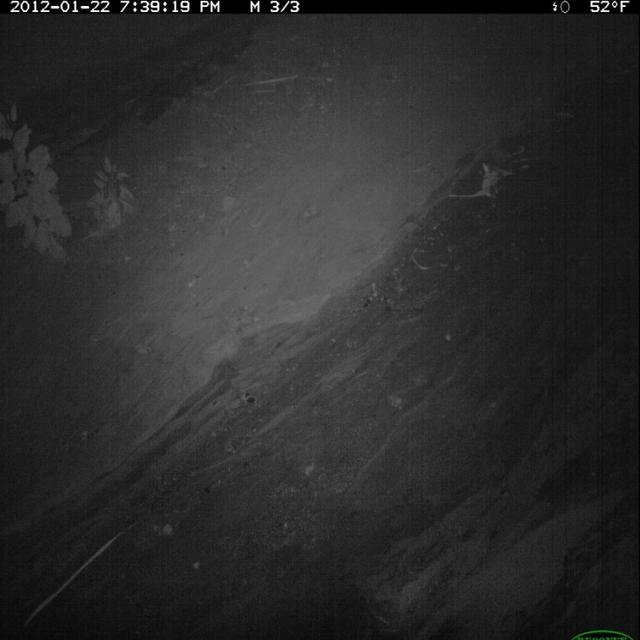bobcat: (1, 3, 639, 640)
